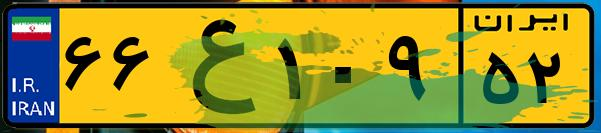0: (330, 28, 385, 110)
1: (270, 28, 330, 110)
2: (525, 38, 570, 115)
5: (475, 38, 525, 113)
6: (57, 26, 110, 100), (110, 28, 158, 98)
9: (385, 28, 445, 110)
ع: (158, 12, 270, 120)
